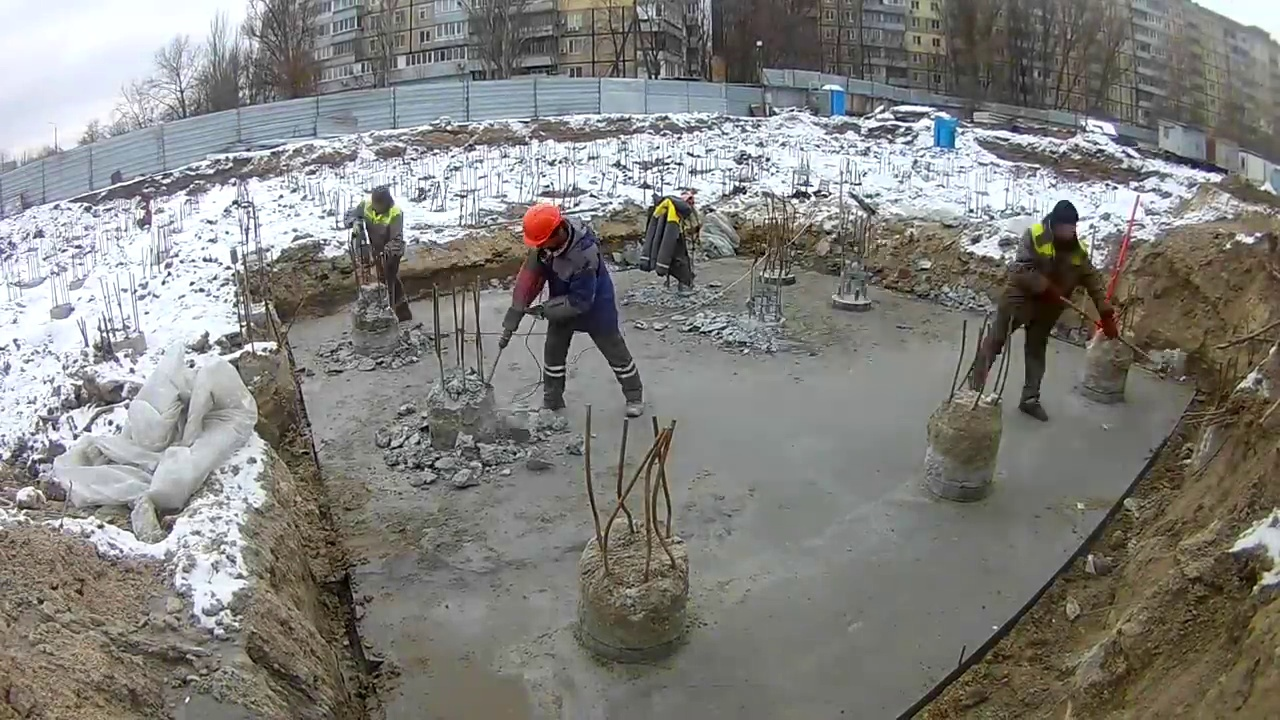helmet: (520, 201, 561, 248)
helmet-off: (1051, 202, 1080, 247), (369, 185, 394, 218)
helmet-on: (519, 202, 573, 255)
person: (966, 198, 1119, 426), (518, 201, 645, 424), (345, 185, 413, 325)
